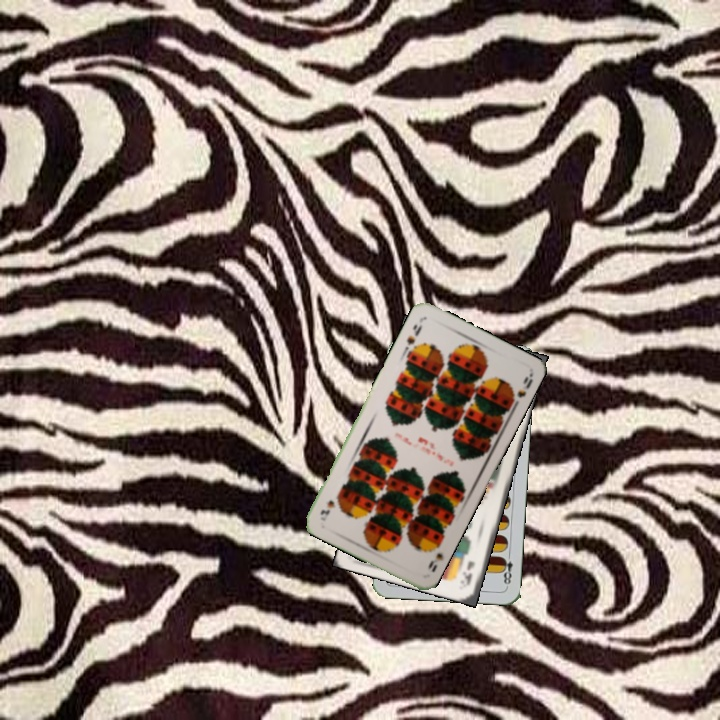E8: (497, 549, 515, 589)
EK: (460, 557, 477, 588)
S9: (424, 537, 446, 575), (403, 320, 425, 348)
